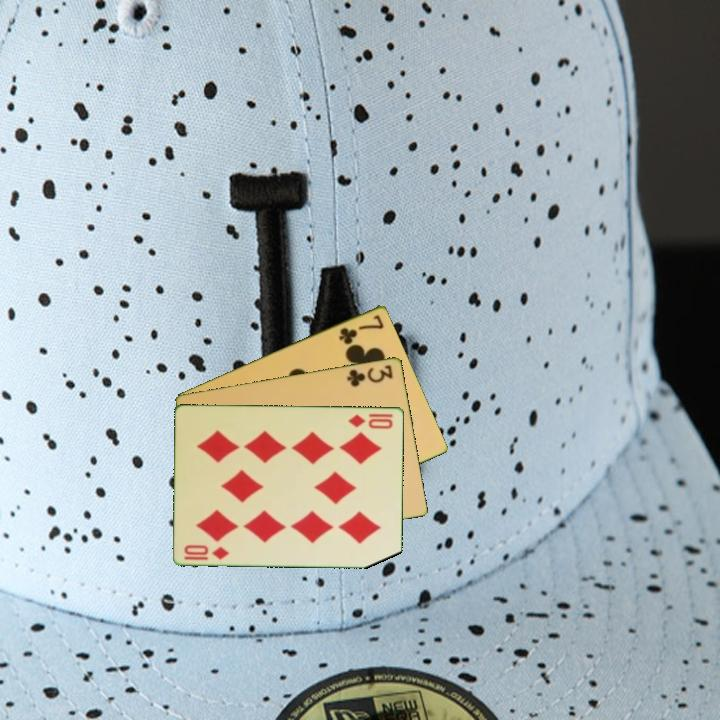10d: (181, 541, 232, 563), (345, 410, 396, 431)
3c: (343, 361, 396, 389)
7c: (335, 311, 387, 347)
